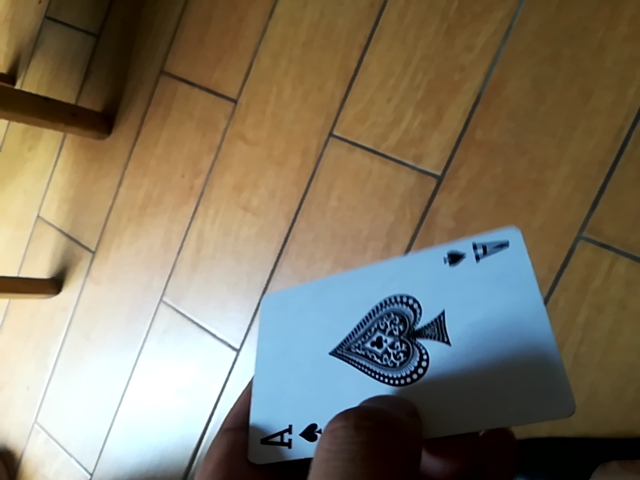ht a: (251, 223, 554, 455)
